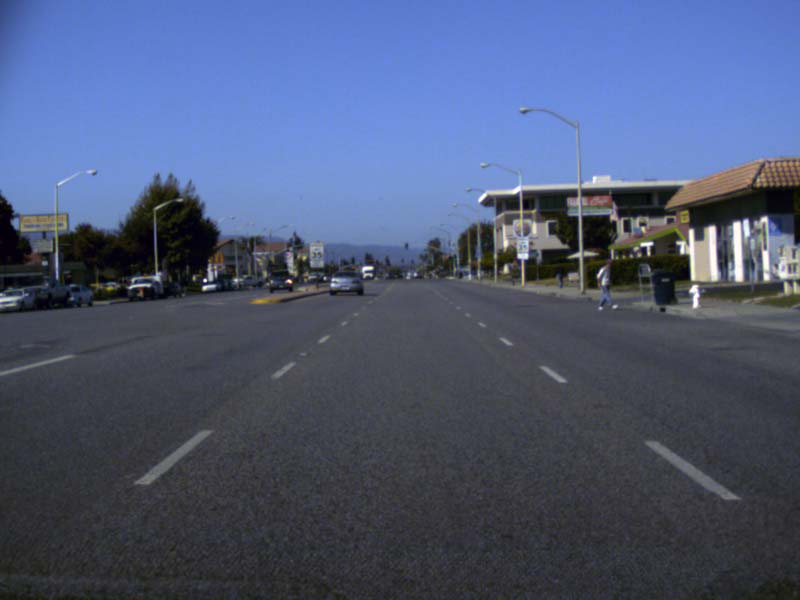Green: (403, 243, 407, 249), (448, 256, 451, 261)
